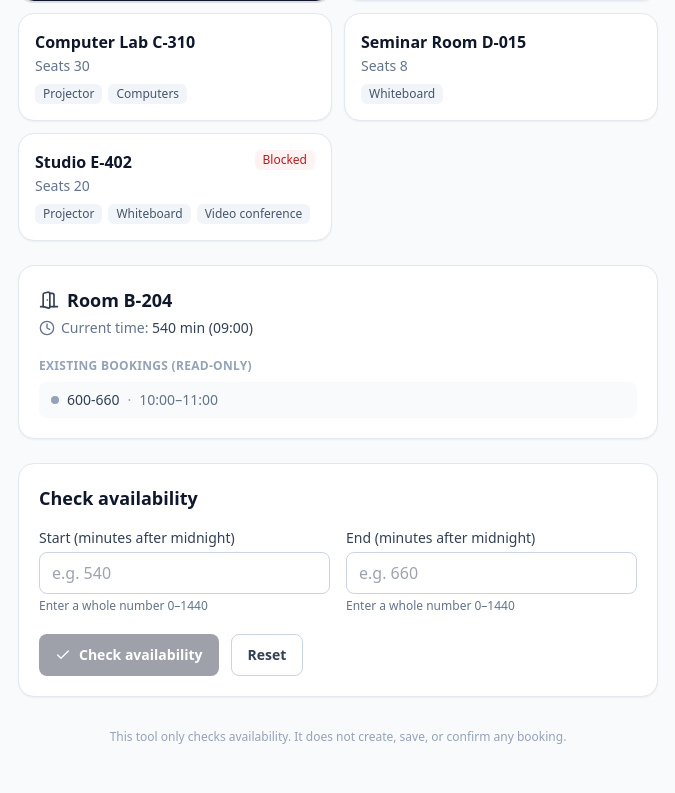
Test: Assignment 3 behavior in the multi-room UI › editing an input clears the old result (Fix 1)
(page scrolled)
Type "660" into the number field labelled "Start (minutes after midnight)". click: (184, 573)
box: [39, 552, 330, 594]
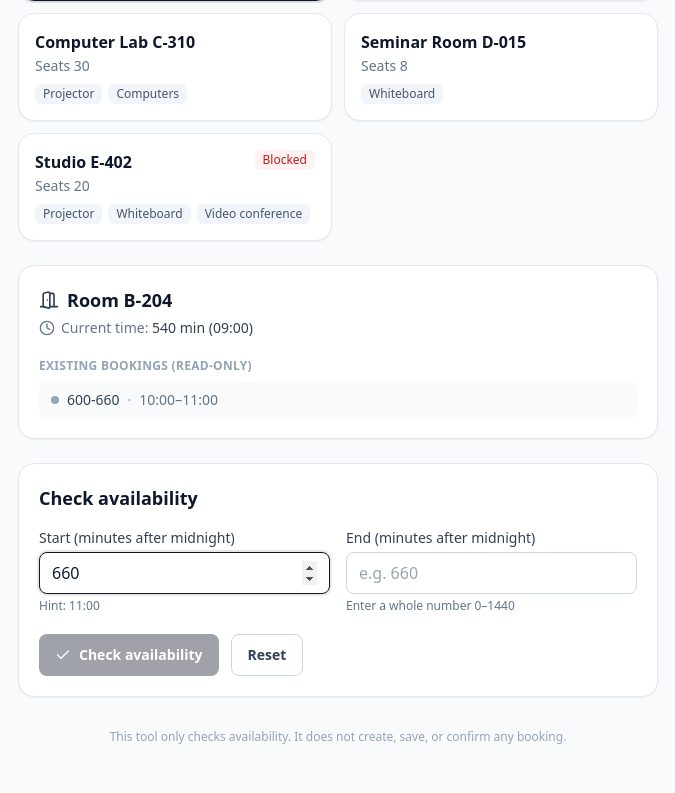
Type "720" into the number field labelled "End (minutes after midnight)". click: (492, 573)
box: [346, 552, 637, 594]
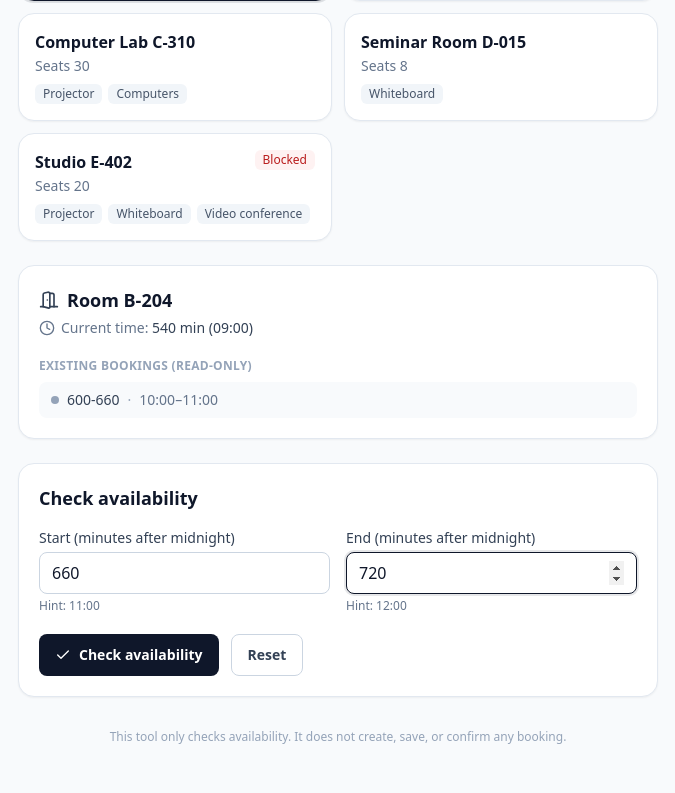
Click the button "Check availability". click: (129, 655)
box: [39, 634, 218, 676]
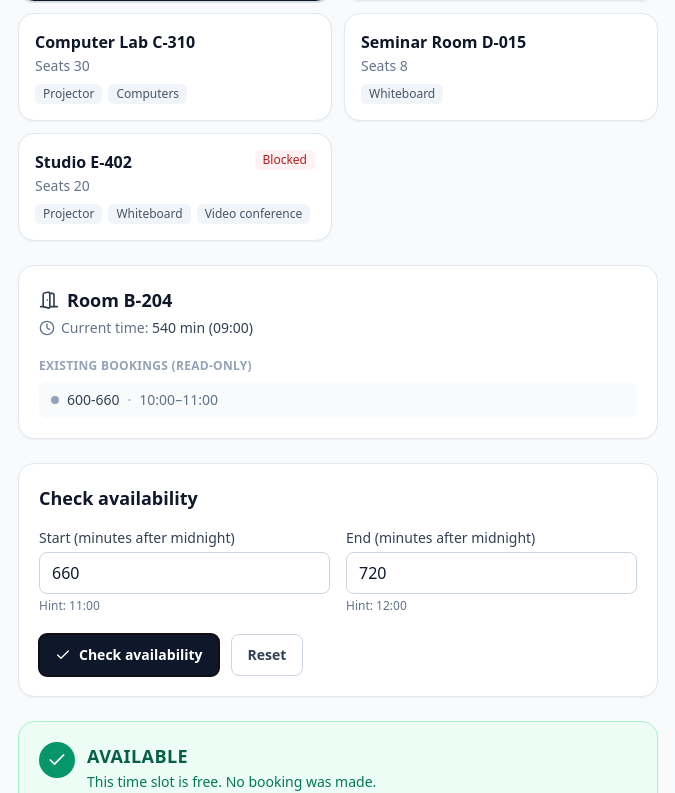
Check: the text "AVAILABLE" is shown, box [87, 744, 188, 768]
Type "0" into the number field labelled "End (minutes after midnight)". click: (492, 573)
box: [346, 552, 637, 594]
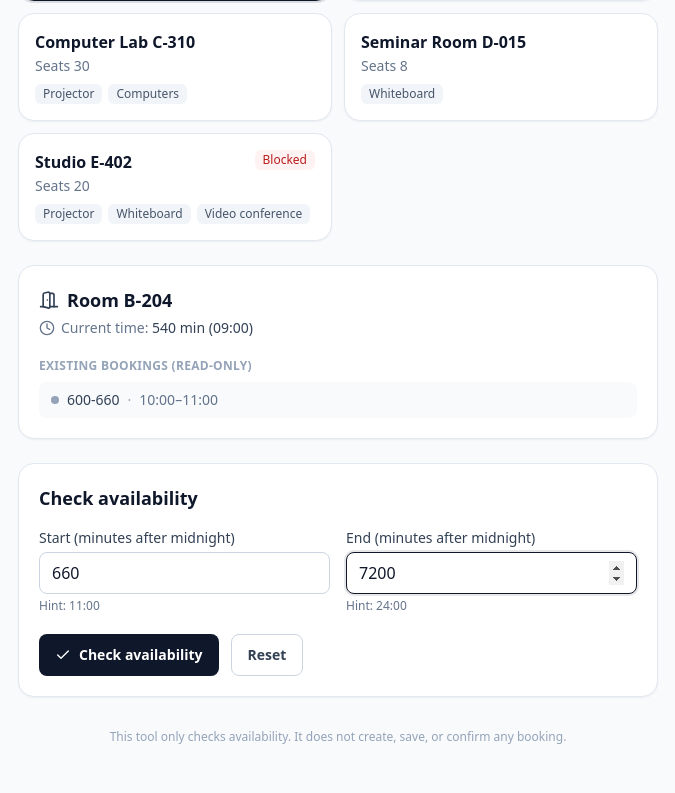
Check: the text "AVAILABLE" is gone
